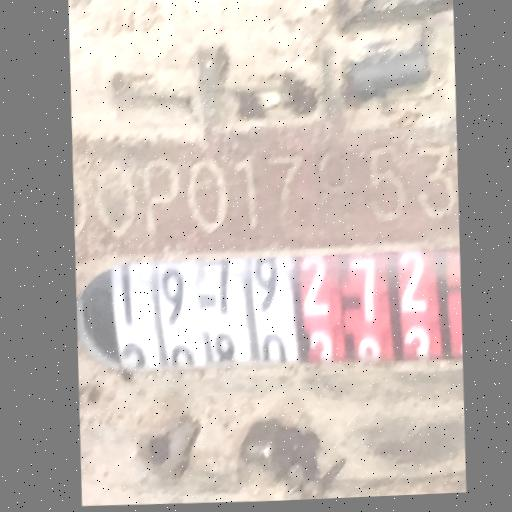1: (107, 258, 163, 372)
2: (387, 248, 447, 363), (290, 253, 349, 366)
7: (337, 250, 397, 364), (194, 256, 254, 367)
9: (242, 253, 302, 368), (150, 257, 209, 371)
border_water_meter_number: (77, 240, 464, 381)
